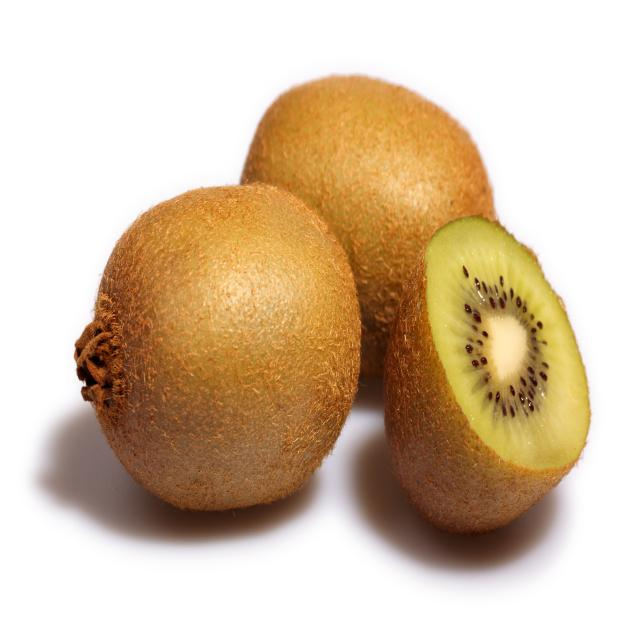Chilli Pepper: (232, 64, 518, 432), (75, 184, 362, 522), (385, 226, 595, 540)
